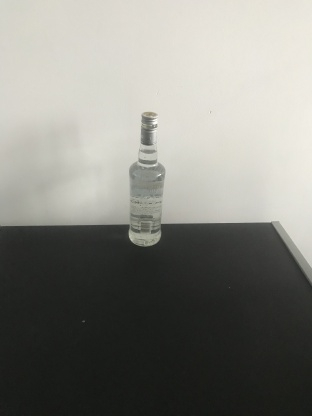nakretka: (139, 108, 158, 145)
